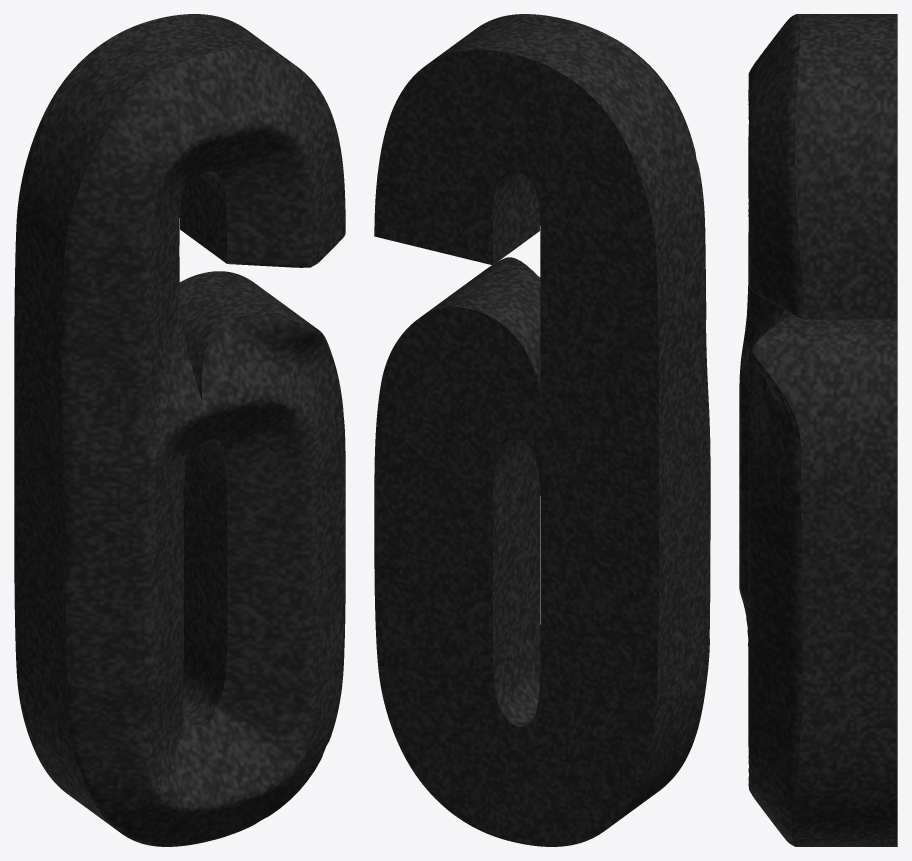
File: digit-6.glb
3 renders of one model, left to right at view 1: azimuth 30°, elevation 25°; view 2: azimuth 150°, elevation 25°; view 3: azimuth 270°, elevation 25°, orthographic.
Parts seen in each view (by area): view 1: Glyph 6; view 2: Glyph 6; view 3: Glyph 6.
Part boxes in pixels (box(x1,y1,x2,y2)): Glyph 6: box(14, 14, 345, 846); Glyph 6: box(374, 14, 710, 846); Glyph 6: box(739, 14, 897, 846).
Size of the model in its own units: 1.4 by 3.71 by 0.6661.
1 material, 1 textured.
